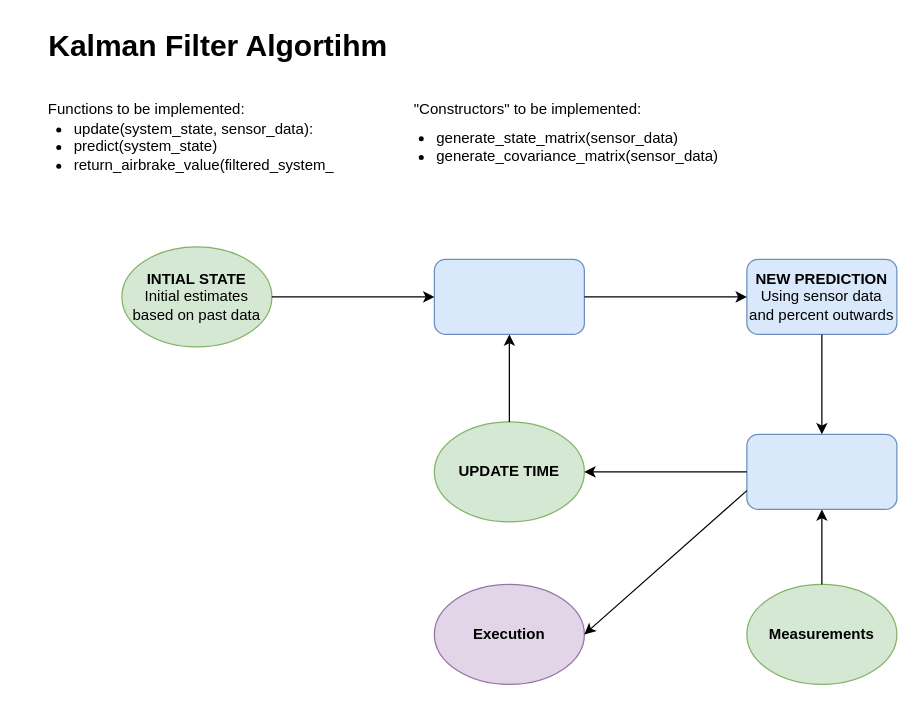
The diagram is 919 pixels wide and 706 high, and some of its shapes have lost their labels. Here are the shapes that lost their labels. From the top down, the centre of each, then its label:
At pixel 508 296: "PREVIOUS STATE".
At pixel 821 471: "UPDATE STATES System state matrix and sensor data put into eqs".
